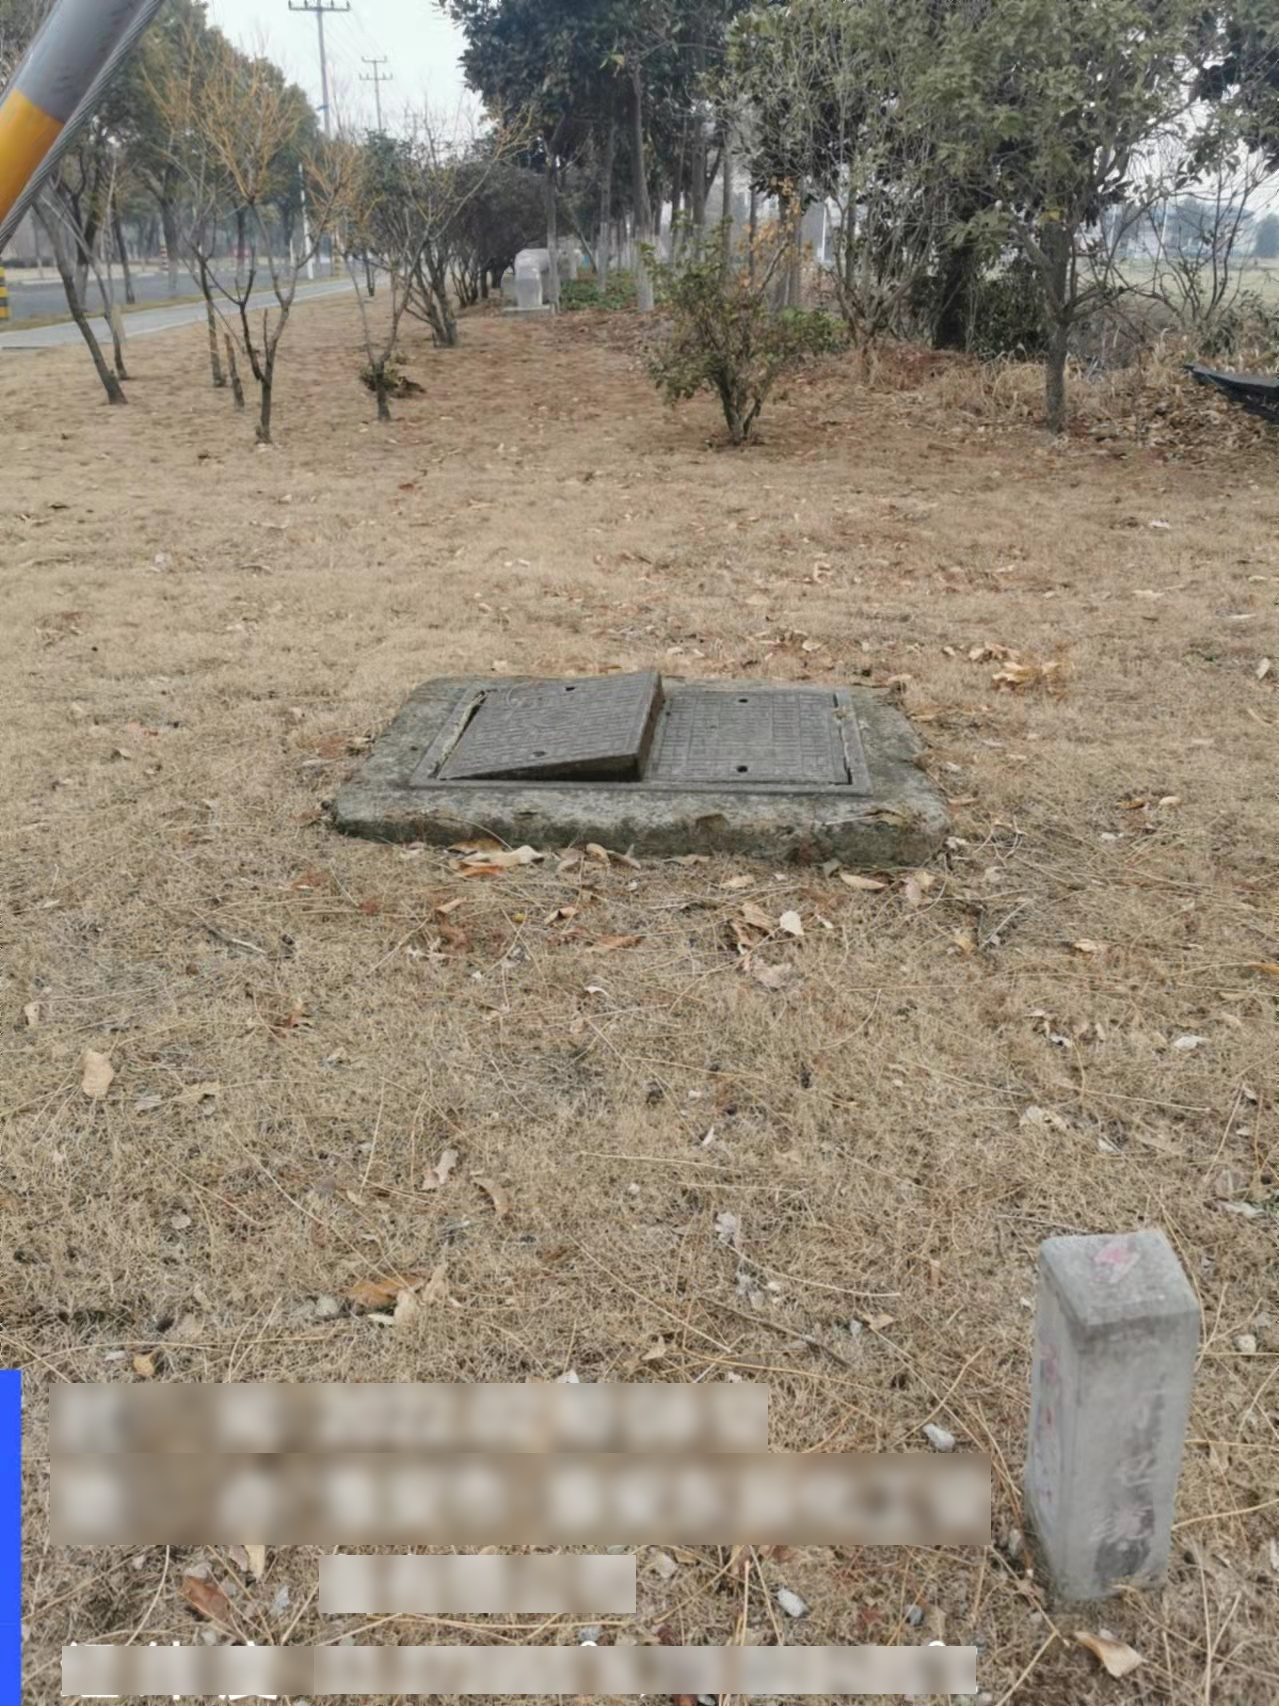well: (386, 670, 879, 805)
